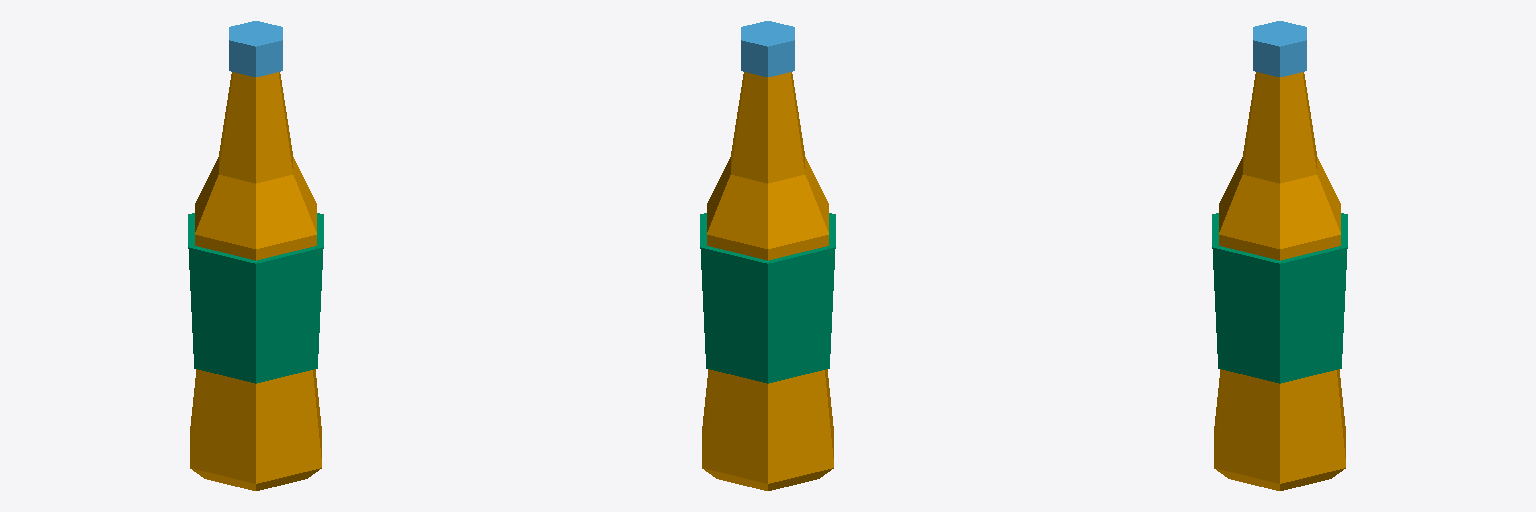
The robot description file, URDF, robot "cilantro_salad_dressing":
<?xml version="1.0"?>
<robot name="cilantro_salad_dressing">
  <link name="bottle">
    <inertial>
        <origin rpy="0 0 0" xyz="0 0 0"/>
        <mass value="0.02"/>
        <inertia ixx="4.4e-5" ixy="0" ixz="0" iyy="0" iyz="0" izz="4.4e-5"/>
    </inertial>
    <visual>
      <geometry>
        <mesh filename="dressingBottle.obj"/>
      </geometry>
    </visual>
    <collision>
      <geometry>
        <mesh filename="TabascoBottleCollider.obj"/>
      </geometry>
      <surface>
           <bounce restitution_coefficient = "0.1"/>
      </surface>
    </collision>
  </link>
  <link name="cap">
    <inertial>
        <origin rpy="0 0 0" xyz="0 0 0"/>
        <mass value="0.005"/>
        <inertia ixx="4.4e-5" ixy="0" ixz="0" iyy="0" iyz="0" izz="4.4e-5"/>
    </inertial>
    <visual>
      <geometry>
        <mesh filename="dressingCap.obj"/>
      </geometry>
    </visual>
    <collision>
      <geometry>
        <mesh filename="dressingCap.obj"/>
      </geometry>
      <surface>
           <bounce restitution_coefficient = "0.1"/>
      </surface>
    </collision>
  </link>
  <link name="label">
    <inertial>
        <origin rpy="0 0 0" xyz="0 0 0"/>
        <mass value="0.005"/>
        <inertia ixx="4.4e-5" ixy="0" ixz="0" iyy="0" iyz="0" izz="4.4e-5"/>
    </inertial>
    <visual>
      <geometry>
        <mesh filename="dressingLabel.obj"/>
      </geometry>
    </visual>
    <collision>
      <geometry>
        <mesh filename="dressingLabel.obj"/>
      </geometry>
      <surface>
           <bounce restitution_coefficient = "0.1"/>
      </surface>
    </collision>
  </link>
  <joint name="bottle_to_cap" type="fixed">
    <parent link="bottle"/>
    <child link="cap"/>
    <origin rpy="0 0 0" xyz="0 0 0.13535"/>
  </joint>
  <joint name="bottle_to_label" type="fixed">
    <parent link="bottle"/>
    <child link="label"/>
    <origin rpy="0 0 0" xyz="0 0 0.056513"/>
  </joint>
</robot>

--- Facts derived from the render (not from the file) ---
The picture shows the robot from 3 angles, left to right: view 1: azimuth 30°, elevation 25°; view 2: azimuth 150°, elevation 25°; view 3: azimuth 270°, elevation 25°; orthographic projection.
Model cilantro_salad_dressing with 3 links and 2 joints (2 fixed), rooted at bottle, posed every joint at zero.
Visible links, largest first — view 1: bottle, label, cap; view 2: bottle, label, cap; view 3: bottle, label, cap.
Boxes of the visible links, x1,y1,x2,y2 form: bottle: [190, 72, 321, 490]; label: [188, 213, 323, 383]; cap: [229, 21, 282, 76]; bottle: [702, 72, 833, 490]; label: [700, 213, 835, 383]; cap: [741, 21, 794, 76]; bottle: [1214, 72, 1345, 490]; label: [1212, 213, 1347, 383]; cap: [1253, 21, 1306, 76].
Size in the robot's own frame: 0.0459 by 0.0397 by 0.1403 metres.
3 mesh visuals loaded from 3 distinct referenced files (3 OBJ).
